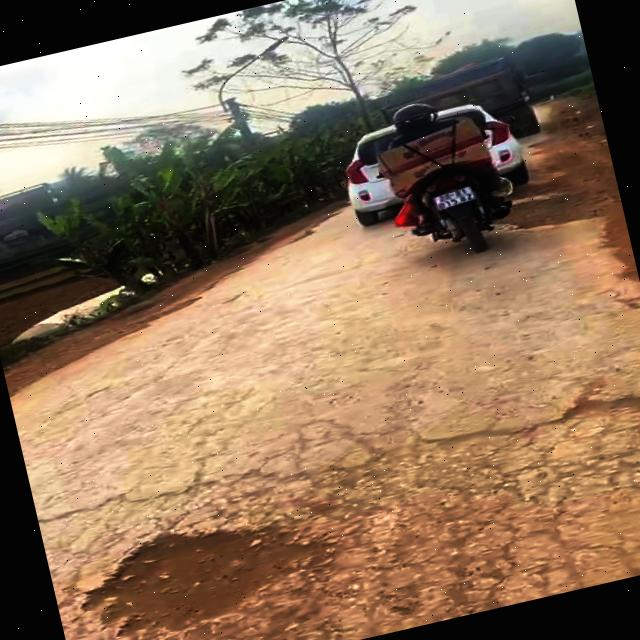pothole: (47, 486, 352, 640), (483, 175, 606, 246)
